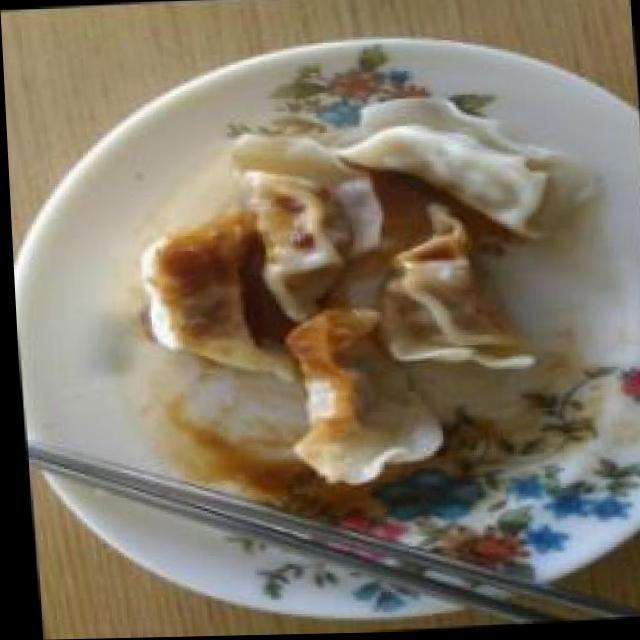fried_dumplings: (121, 92, 605, 498)
